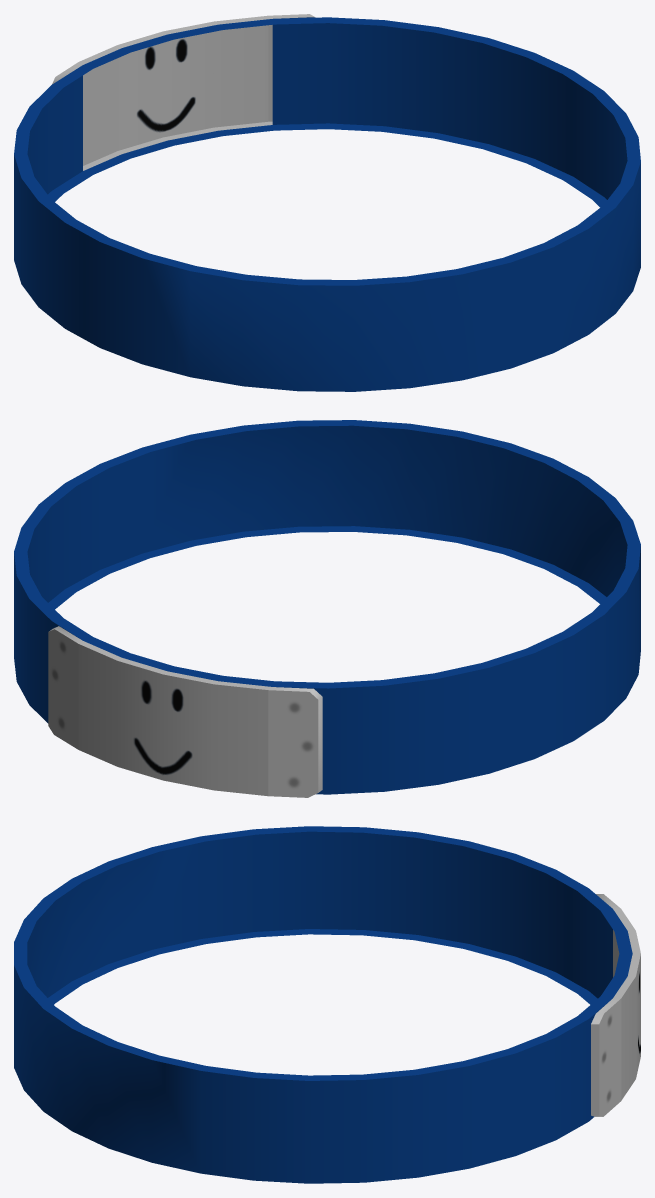
The model's file is oof_headband.glb.
3 renders of one model, top to bottom at view 1: azimuth 30°, elevation 25°; view 2: azimuth 150°, elevation 25°; view 3: azimuth 270°, elevation 25°, orthographic. The views are drawn at different scales.
Parts seen in each view (by area): view 1: Object_2; view 2: Object_2; view 3: Object_2.
Part boxes in pixels (x1,y1,x2,y2): Object_2: [14, 14, 640, 391]; Object_2: [14, 420, 640, 797]; Object_2: [14, 826, 640, 1183].
Bounding box in the file's own units: 1.28 × 0.2417 × 1.33.
1 material, 1 textured.
